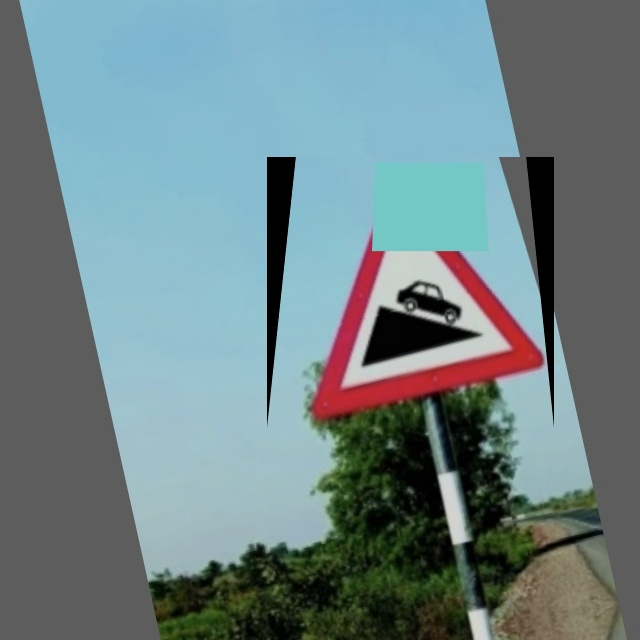Steep_Descent: (267, 157, 554, 428)
